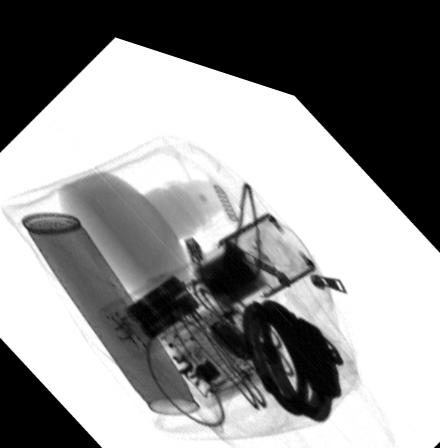Baton: (97, 191, 319, 349)
HandCuffs: (238, 279, 346, 404)
